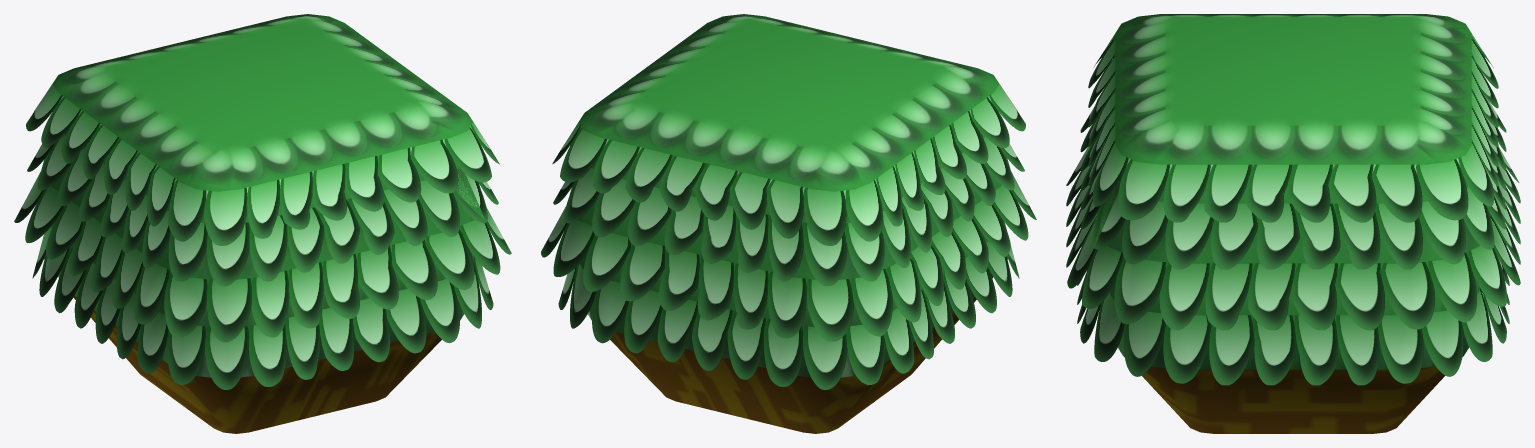
The model's file is Bush.FBX.
3 views of the same model, side by side, from view 1: azimuth 30°, elevation 25°; view 2: azimuth 150°, elevation 25°; view 3: azimuth 270°, elevation 25° (orthographic). The views are drawn at different scales.
Visible parts, largest first — view 1: bush; view 2: bush; view 3: bush.
Part boxes in pixels (x1=…): bush: x1=14, y1=14, x2=511, y2=433; bush: x1=541, y1=14, x2=1036, y2=433; bush: x1=1066, y1=14, x2=1520, y2=433.
Bounding box in the file's own units: 1.95 × 1.55 × 1.95.
